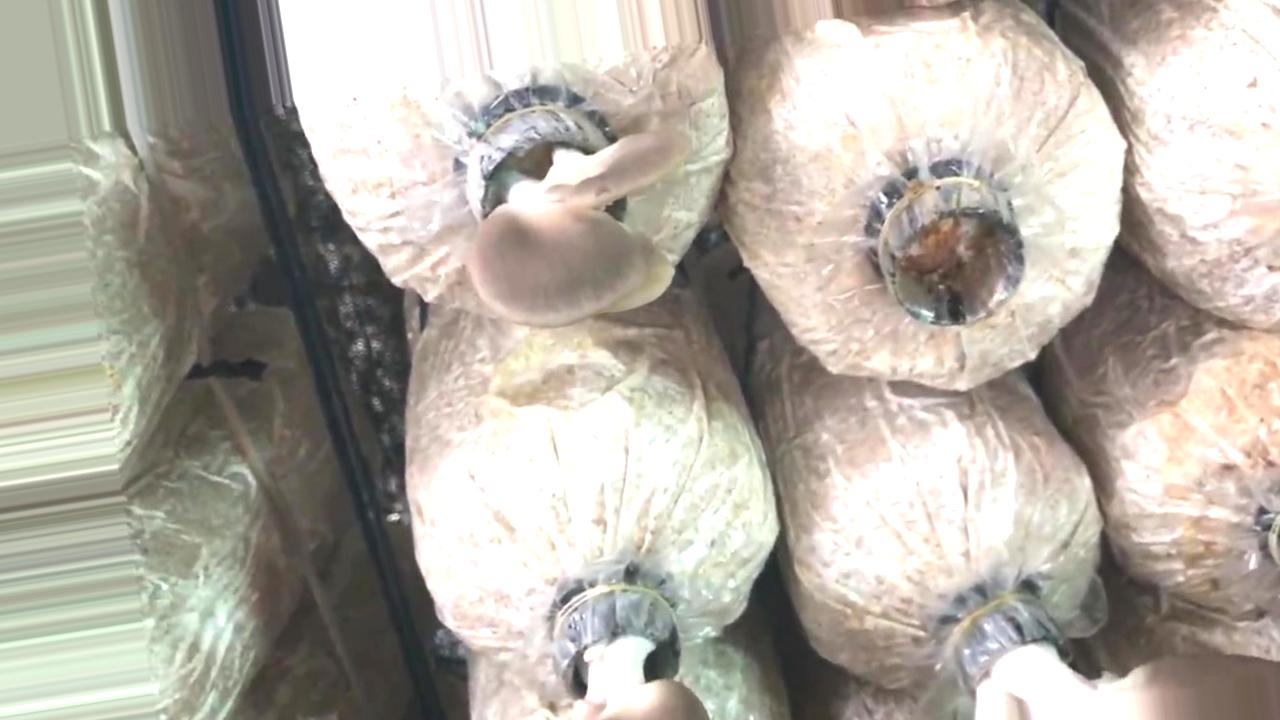nam: (464, 92, 692, 330), (955, 603, 1280, 718), (554, 571, 707, 720)
